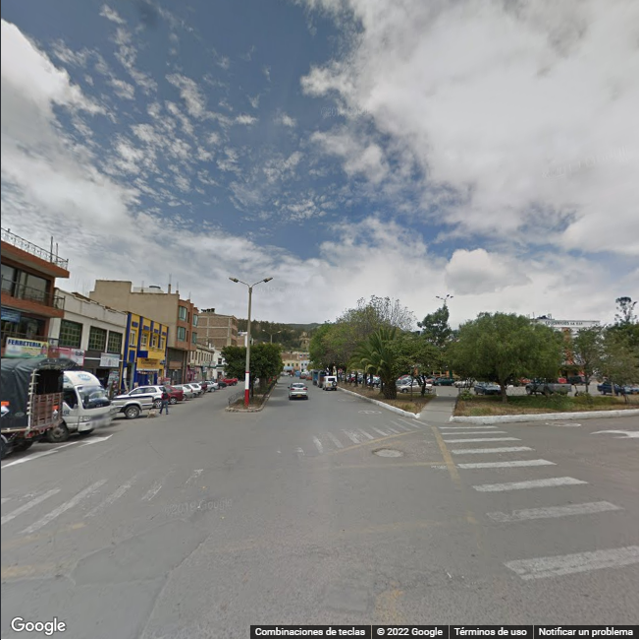D00: (168, 529, 216, 578)
D10: (225, 548, 336, 566)
